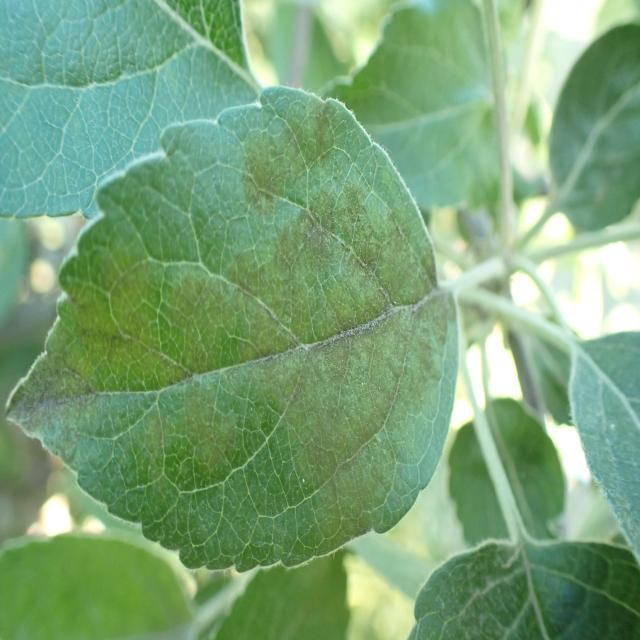scab: (58, 94, 458, 535)
